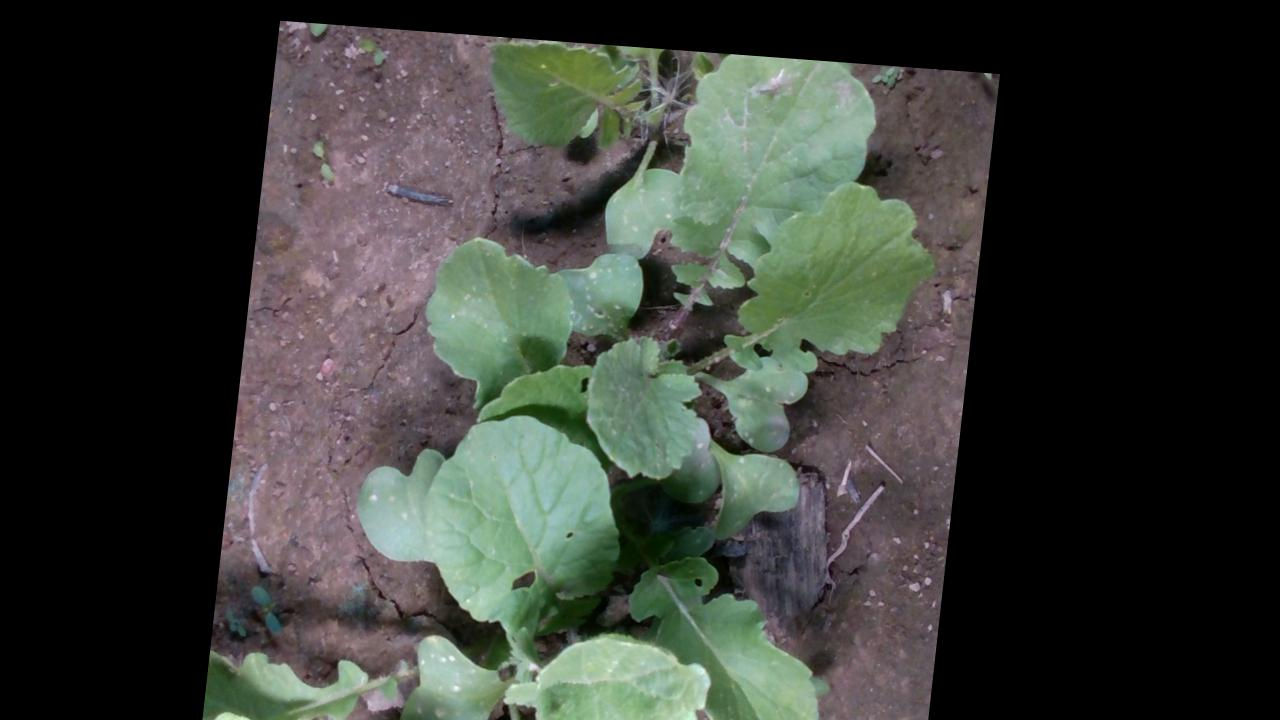weed: (310, 135, 342, 179), (350, 33, 388, 61), (307, 18, 344, 35)
